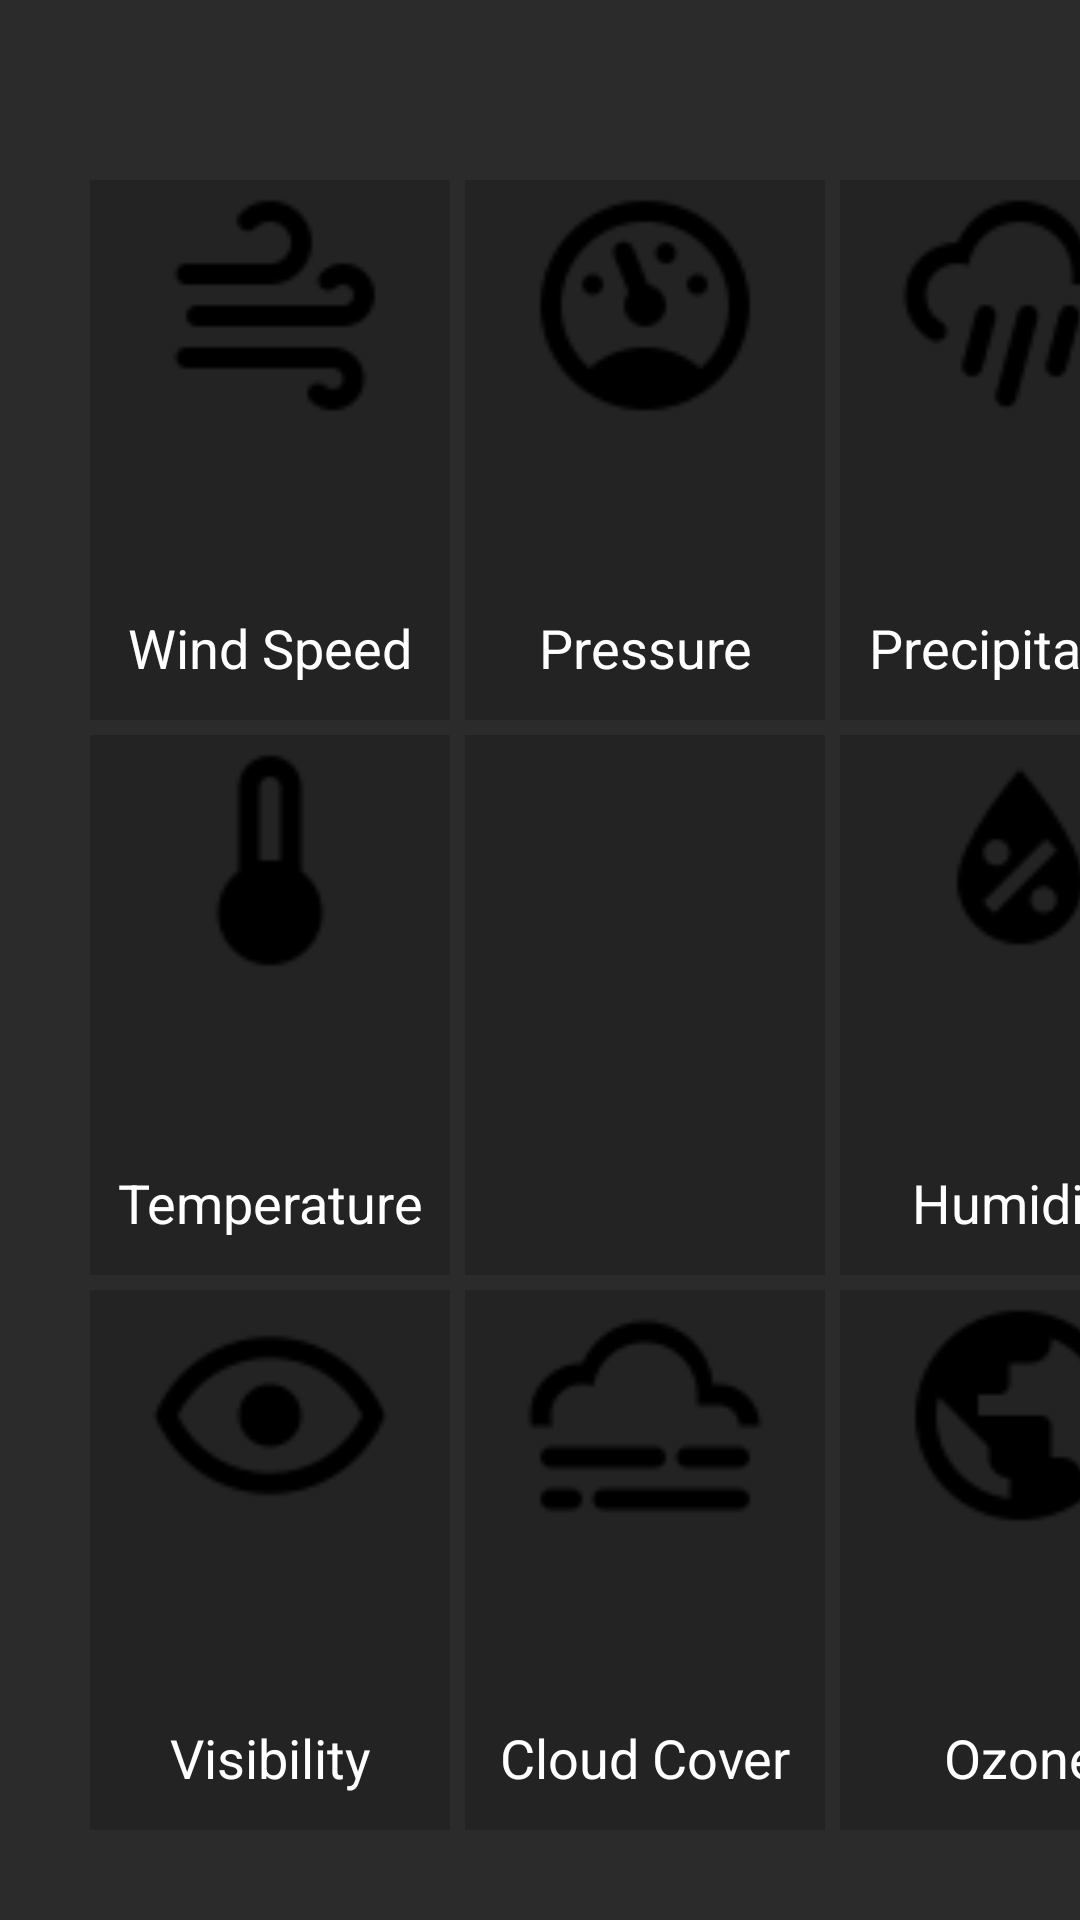

Icon click points for this 1080 × 1920 phone screenshot, format (x=x, y=y):
eye: (x=270, y=1415)
gauge: (x=645, y=305)
thermometer: (x=269, y=860)
weather fog: (x=645, y=1415)
weather windy: (x=276, y=305)
